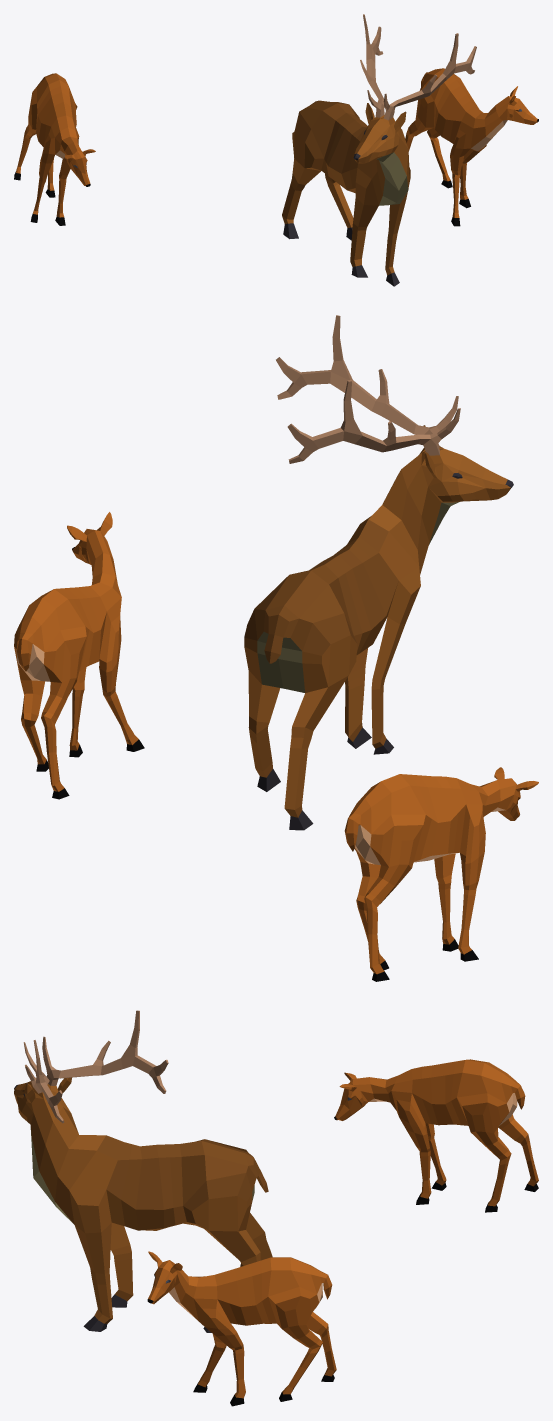
The model's file is deer.glb.
3 views of the same model, one above another, from view 1: azimuth 30°, elevation 25°; view 2: azimuth 150°, elevation 25°; view 3: azimuth 270°, elevation 25° (orthographic). The views are drawn at different scales.
Parts seen in each view (by area): view 1: Plane.002; view 2: Plane.002; view 3: Plane.002.
Part boxes in pixels (bbox=[...]): Plane.002: bbox=[14, 14, 538, 286]; Plane.002: bbox=[14, 315, 538, 981]; Plane.002: bbox=[14, 1010, 538, 1406].
Bounding box in the file's own units: 0.8592 × 0.5405 × 0.8229.
